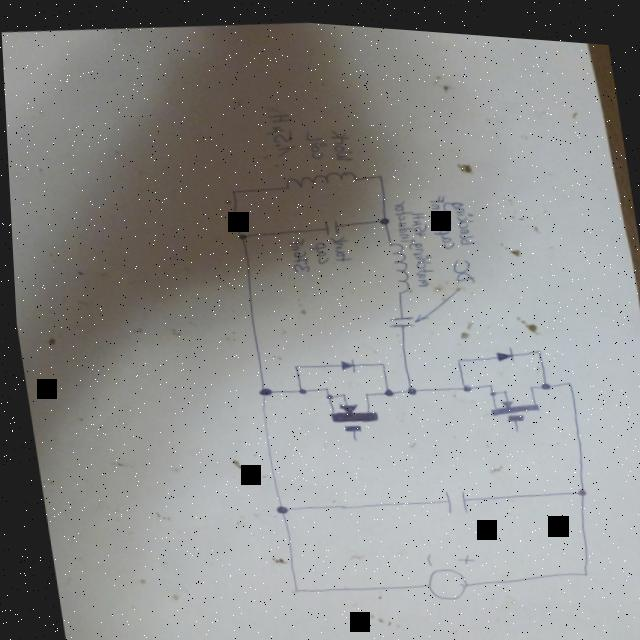capacitor: (434, 481, 466, 511), (383, 306, 417, 324), (318, 211, 342, 234)
diode: (490, 340, 511, 357), (334, 352, 354, 369)
inductor: (275, 161, 361, 191), (385, 235, 410, 291)
junction: (251, 381, 269, 395), (374, 209, 390, 222), (269, 499, 284, 512), (570, 478, 583, 490), (401, 379, 414, 391), (378, 382, 392, 393), (234, 228, 247, 239), (283, 581, 296, 592), (534, 374, 548, 384), (455, 377, 469, 386), (292, 382, 304, 392), (574, 561, 584, 571), (375, 354, 384, 364), (287, 359, 298, 367), (374, 167, 383, 175), (450, 351, 460, 358), (228, 185, 237, 192), (561, 372, 570, 379), (532, 341, 540, 348)
source: (417, 558, 465, 599)
terminal: (346, 431, 355, 439), (508, 421, 517, 428)
text: (260, 102, 299, 158), (439, 191, 478, 242), (424, 187, 454, 244), (405, 234, 435, 284), (389, 193, 416, 240), (326, 122, 355, 159), (284, 232, 310, 271), (302, 125, 328, 158), (446, 250, 474, 280), (327, 231, 350, 260), (308, 235, 329, 263), (406, 204, 427, 232)
transistor: (317, 376, 378, 433), (480, 371, 538, 419)
